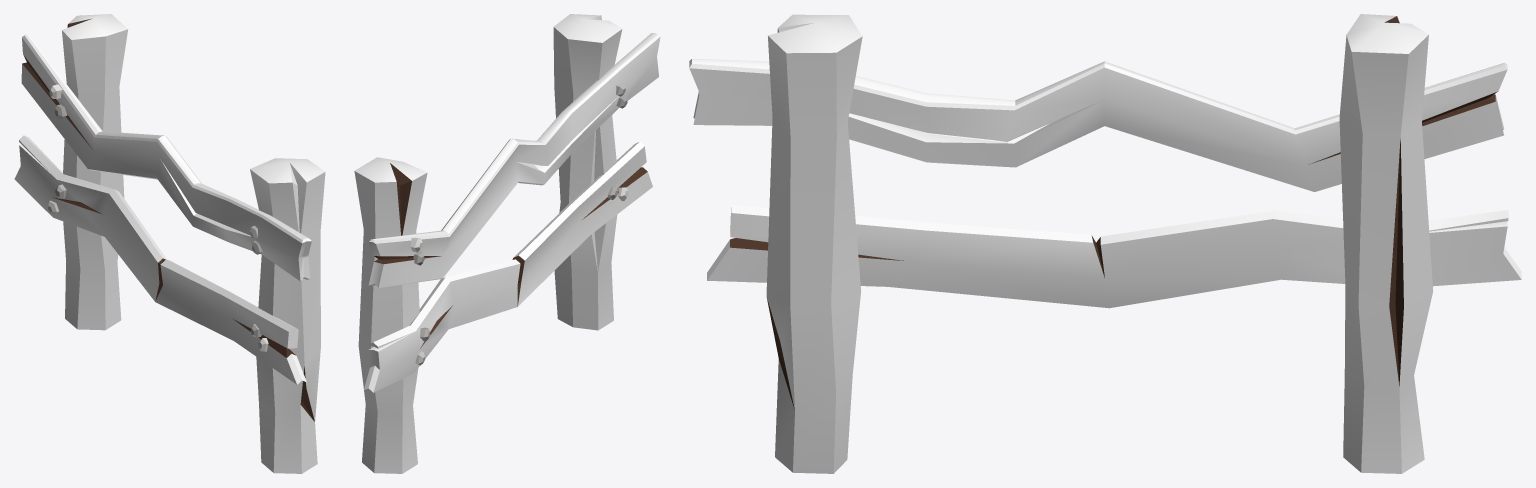
Rendered from valla6.fbx.
3 views of the same model, side by side, from view 1: azimuth 30°, elevation 25°; view 2: azimuth 150°, elevation 25°; view 3: azimuth 270°, elevation 25° (orthographic). The views are drawn at different scales.
Visible parts, largest first — view 1: vallaNormal1; view 2: vallaNormal1; view 3: vallaNormal1.
Boxes of the visible parts, box(x1,y1,x2,y2) form: vallaNormal1: box(14, 14, 325, 473); vallaNormal1: box(354, 14, 660, 473); vallaNormal1: box(689, 14, 1521, 473).
Bounding box in the file's own units: 141 × 611 × 1058.
